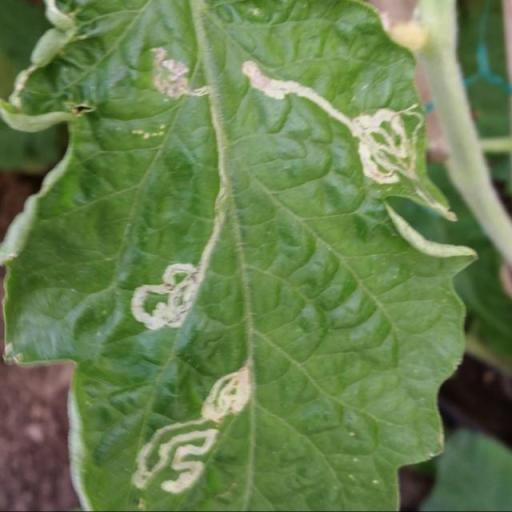disease_tomato: (0, 0, 485, 512)
